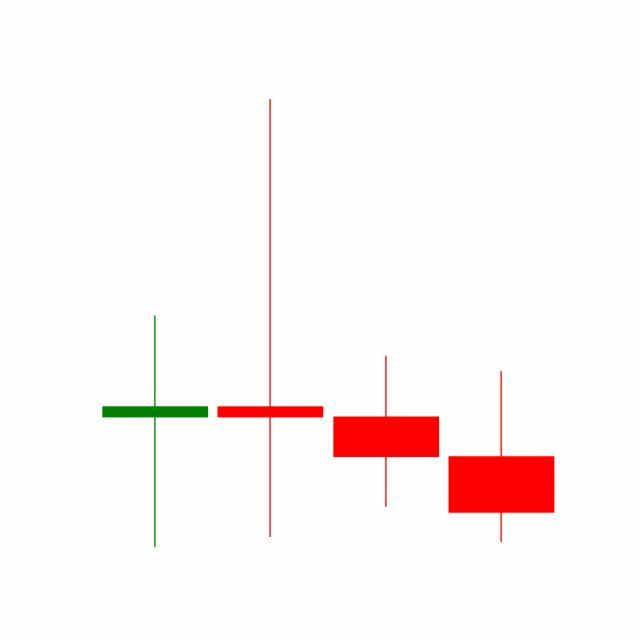Spinning Top: (329, 355, 445, 510)
